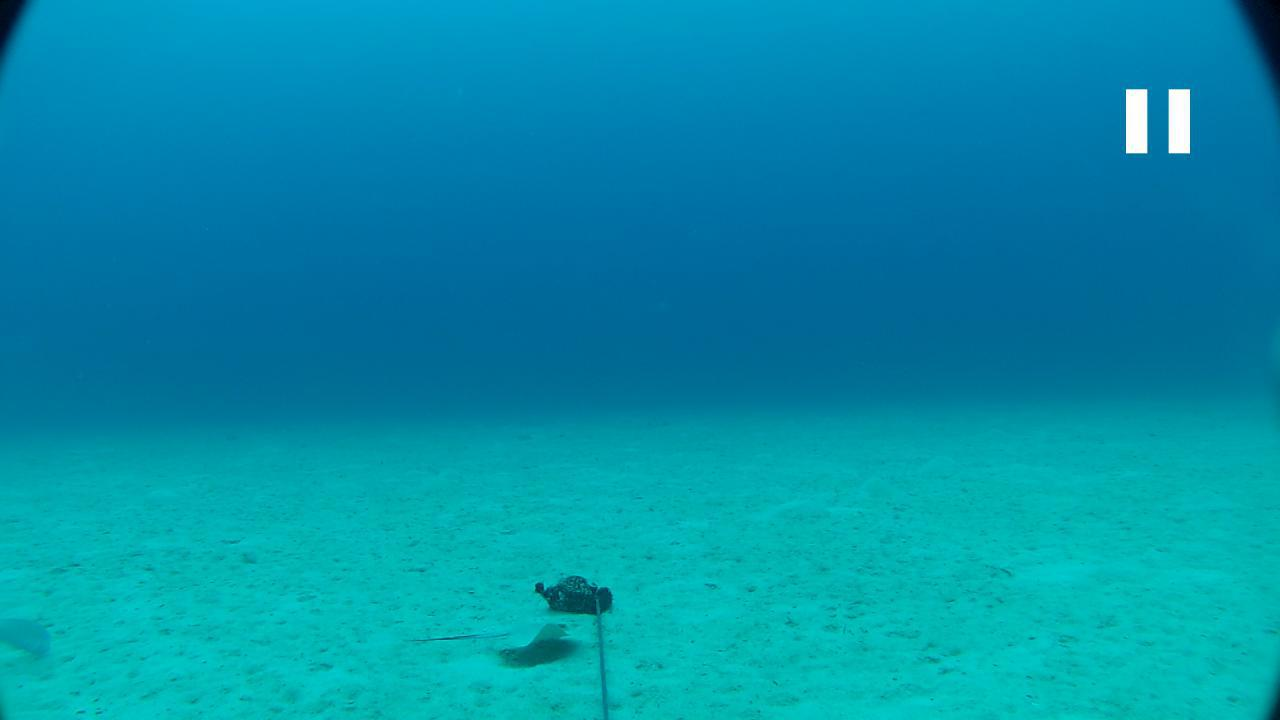dasyatis: (400, 620, 576, 650)
